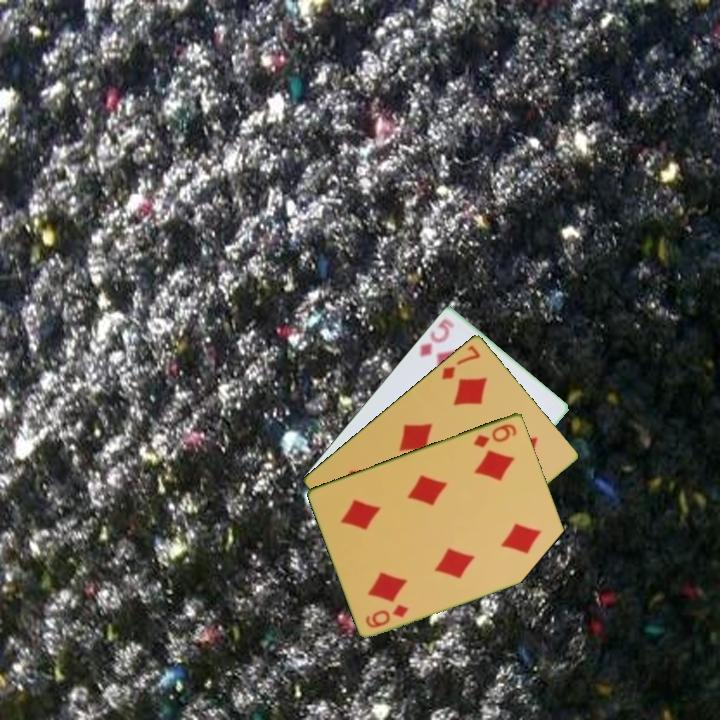5d: (416, 314, 457, 359)
6d: (470, 420, 520, 450), (362, 601, 412, 630)
7d: (438, 341, 483, 382)
